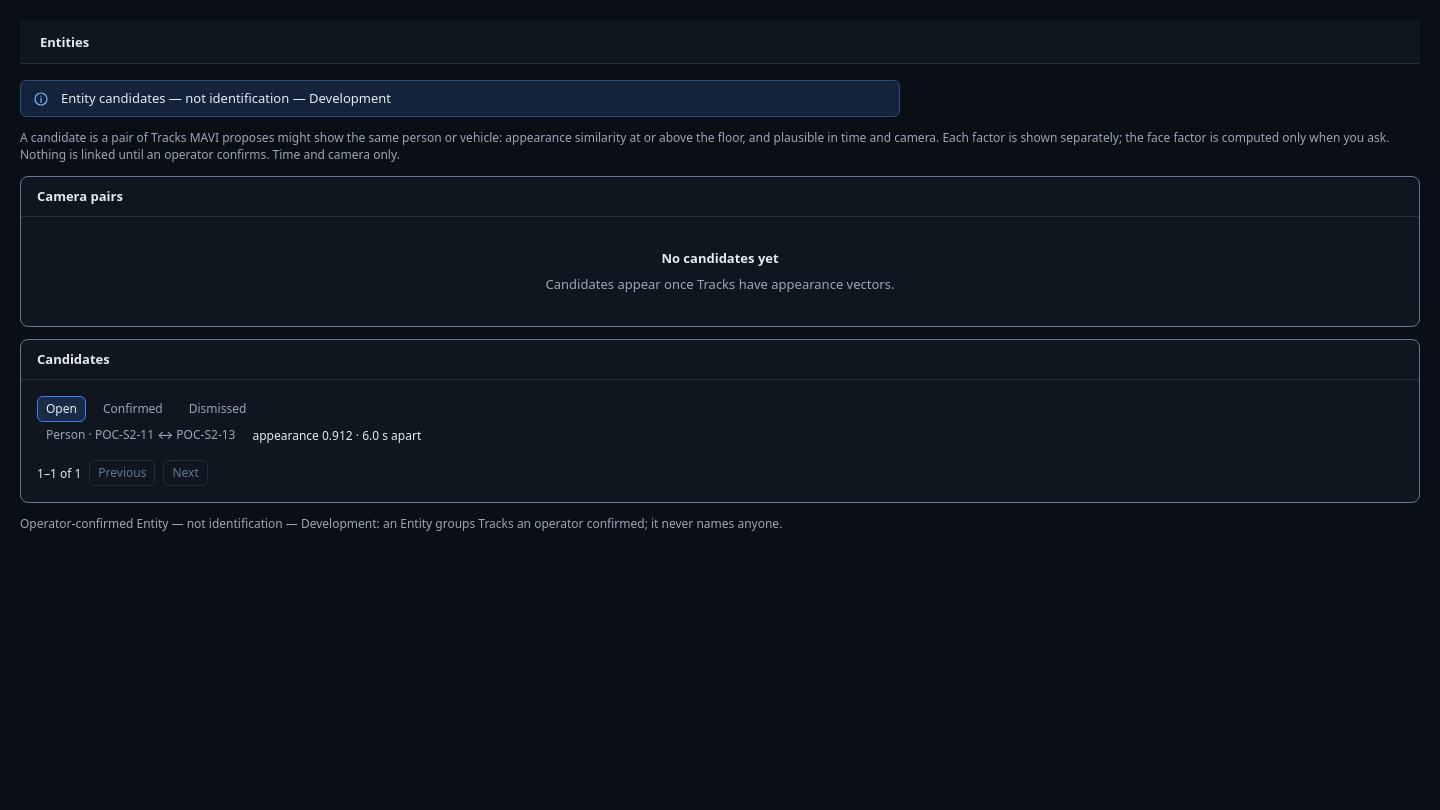
Test case: PoC S11-full Entity corrections › shows the candidate decision history on request
The width and height of the screenshot is (1440, 810).
Click the button "Person · POC-S2-11 ↔ POC-S2-13" at (141, 435), box [37,422,244,448]
(page scrolled)
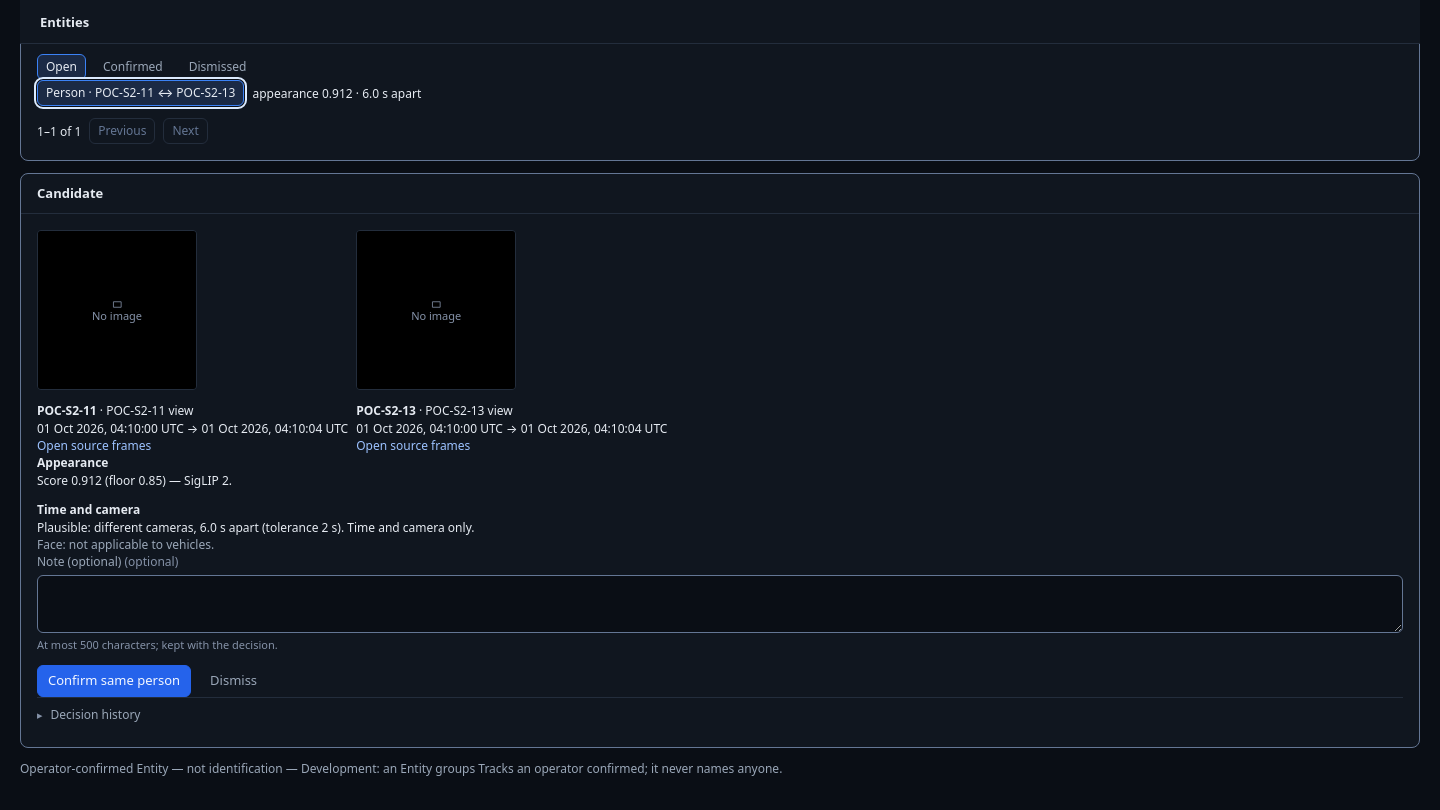
Click the heading "Decision history" at (96, 714), box [50,706,140,723]
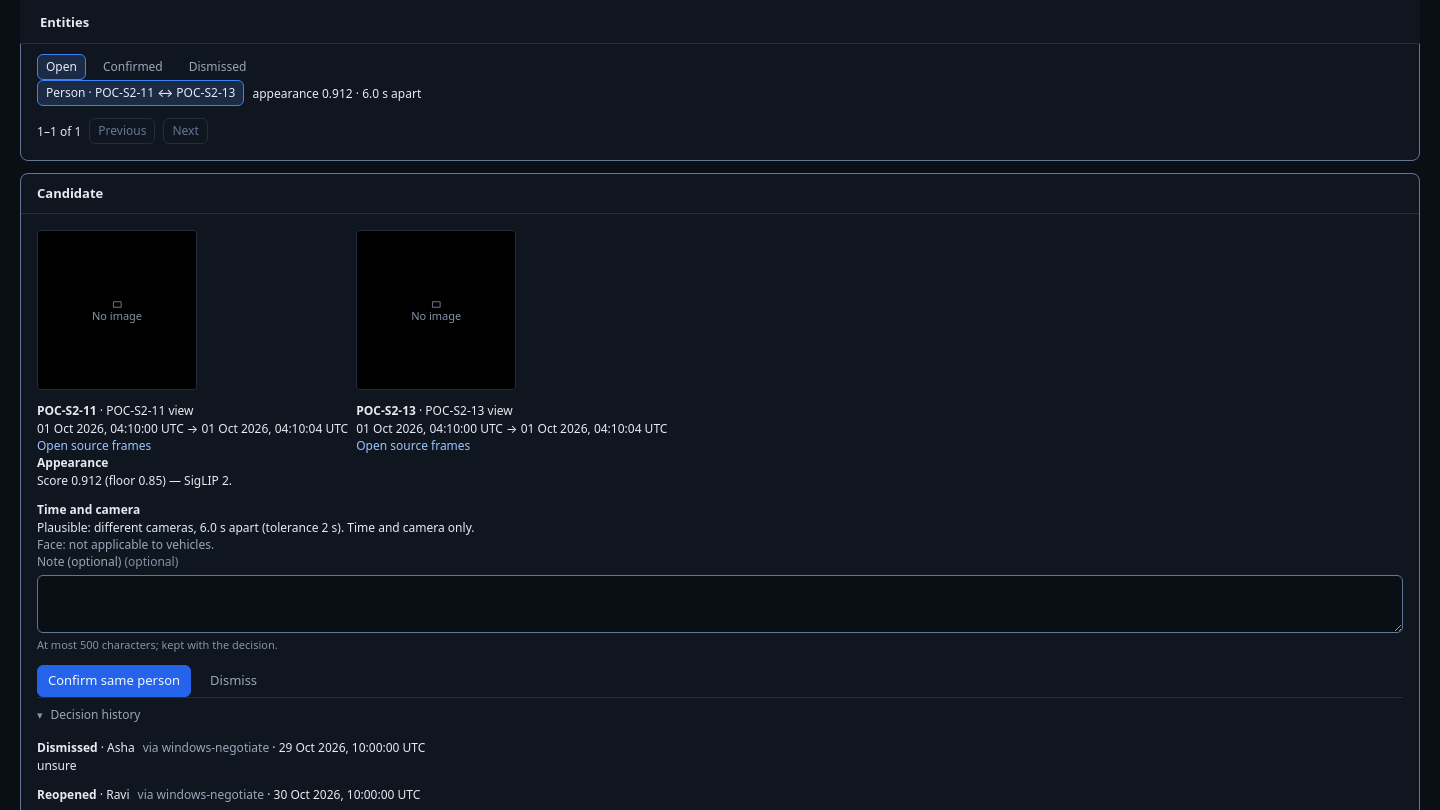
Expected: the list item that starts with "Dismissed" reads "Dismissed · Asha via windows-negotiate · 29 Oct 2026, 10:00:00 UTC unsure", [37,739,425,774]
Expected: the list item that starts with "Dismissed" shows "unsure", [37,757,76,774]
Expected: the list item that starts with "Reopened" reads "Reopened · Ravi via windows-negotiate · 30 Oct 2026, 10:00:00 UTC", [37,786,420,803]
